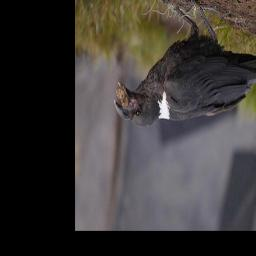Crow: (113, 0, 256, 132)
